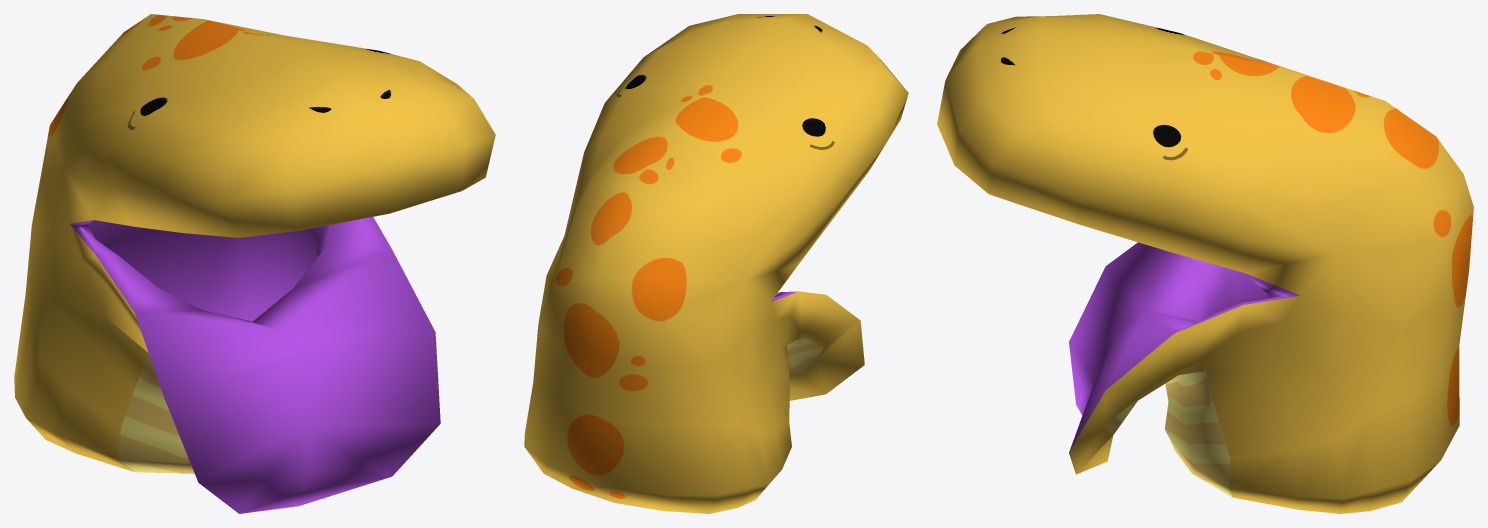
File: Trog-HELMET.fbx
The picture shows the model from 3 angles, left to right: view 1: azimuth 30°, elevation 25°; view 2: azimuth 150°, elevation 25°; view 3: azimuth 270°, elevation 25°; orthographic projection. The views are drawn at different scales.
Parts seen in each view (by area): view 1: Body.001; view 2: Body.001; view 3: Body.001.
Boxes of the visible parts, x1=… form: Body.001: x1=14, y1=14, x2=495, y2=513; Body.001: x1=524, y1=14, x2=908, y2=513; Body.001: x1=937, y1=14, x2=1473, y2=513.
Size of the model in its own units: 36.93 by 52.73 by 59.68.
